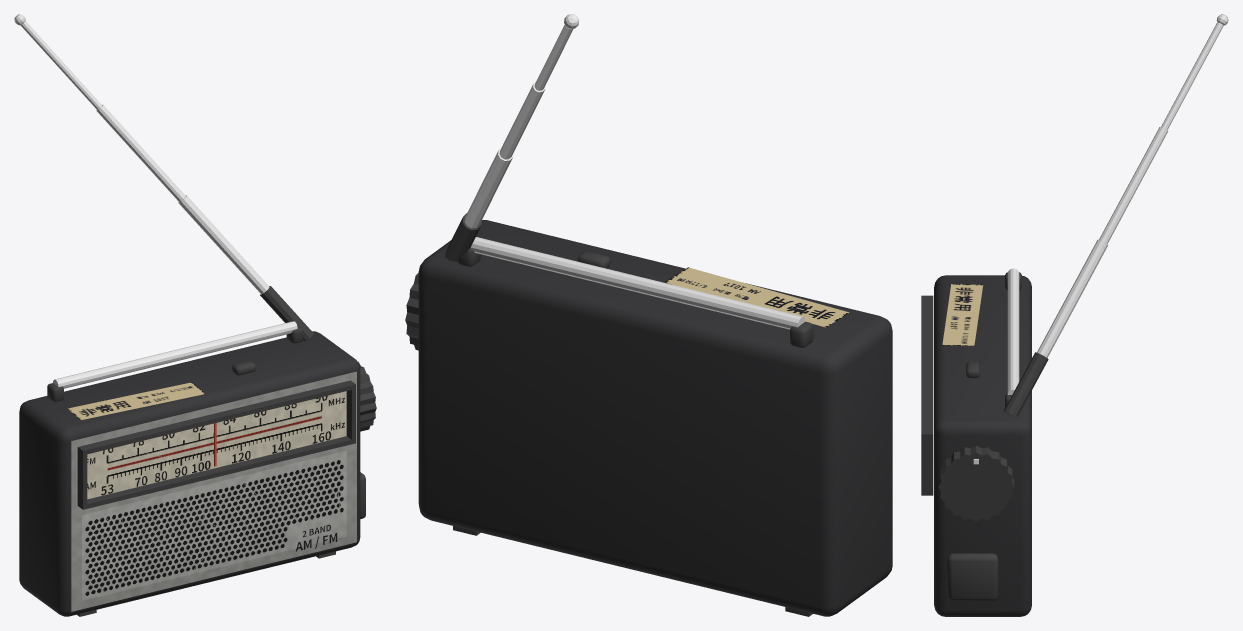
File: radio.glb
3 renders of one model, left to right at view 1: azimuth 30°, elevation 25°; view 2: azimuth 150°, elevation 25°; view 3: azimuth 270°, elevation 25°, orthographic. The views are drawn at different scales.
Visible parts, largest first — view 1: radio_front, radio_body, dial, antenna, radio_handle, radio_bezel_t, radio_bezel_b, radio_tape, knob_wheel, radio_bezel_l; view 2: radio_body, radio_handle, antenna, radio_tape, knob_wheel; view 3: radio_body, antenna, knob_wheel, radio_volume, radio_tape, radio_bezel_t, radio_handle, radio_bezel_r.
Part boxes in pixels (<box>): radio_front: <box>71,371,356,611</box>; radio_body: <box>19,331,360,616</box>; dial: <box>87,391,346,499</box>; antenna: <box>14,14,313,340</box>; radio_handle: <box>53,321,297,388</box>; radio_bezel_t: <box>77,380,355,455</box>; radio_bezel_b: <box>77,436,355,509</box>; radio_tape: <box>67,382,205,420</box>; knob_wheel: <box>358,361,376,431</box>; radio_bezel_l: <box>77,452,87,505</box>; radio_body: <box>418,220,892,616</box>; radio_handle: <box>470,237,805,329</box>; antenna: <box>445,14,577,261</box>; radio_tape: <box>665,267,849,327</box>; knob_wheel: <box>405,273,418,350</box>; radio_body: <box>934,275,1031,616</box>; antenna: <box>1003,14,1227,416</box>; knob_wheel: <box>938,445,1014,521</box>; radio_volume: <box>947,553,998,600</box>; radio_tape: <box>942,284,983,345</box>; radio_bezel_t: <box>921,295,933,438</box>; radio_handle: <box>1007,268,1019,394</box>; radio_bezel_r: <box>921,439,933,490</box>.
Bounding box in the file's own units: 0.2261 × 0.3308 × 0.1818.
Materials: 8 (3 with a texture image).
